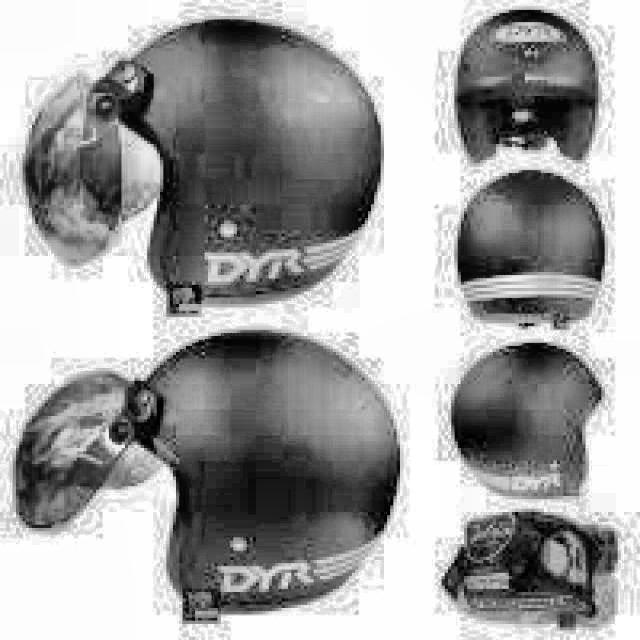Helmet: (13, 320, 409, 640), (25, 12, 391, 310), (436, 169, 618, 332), (449, 7, 604, 166), (448, 342, 601, 496), (443, 514, 618, 626)
